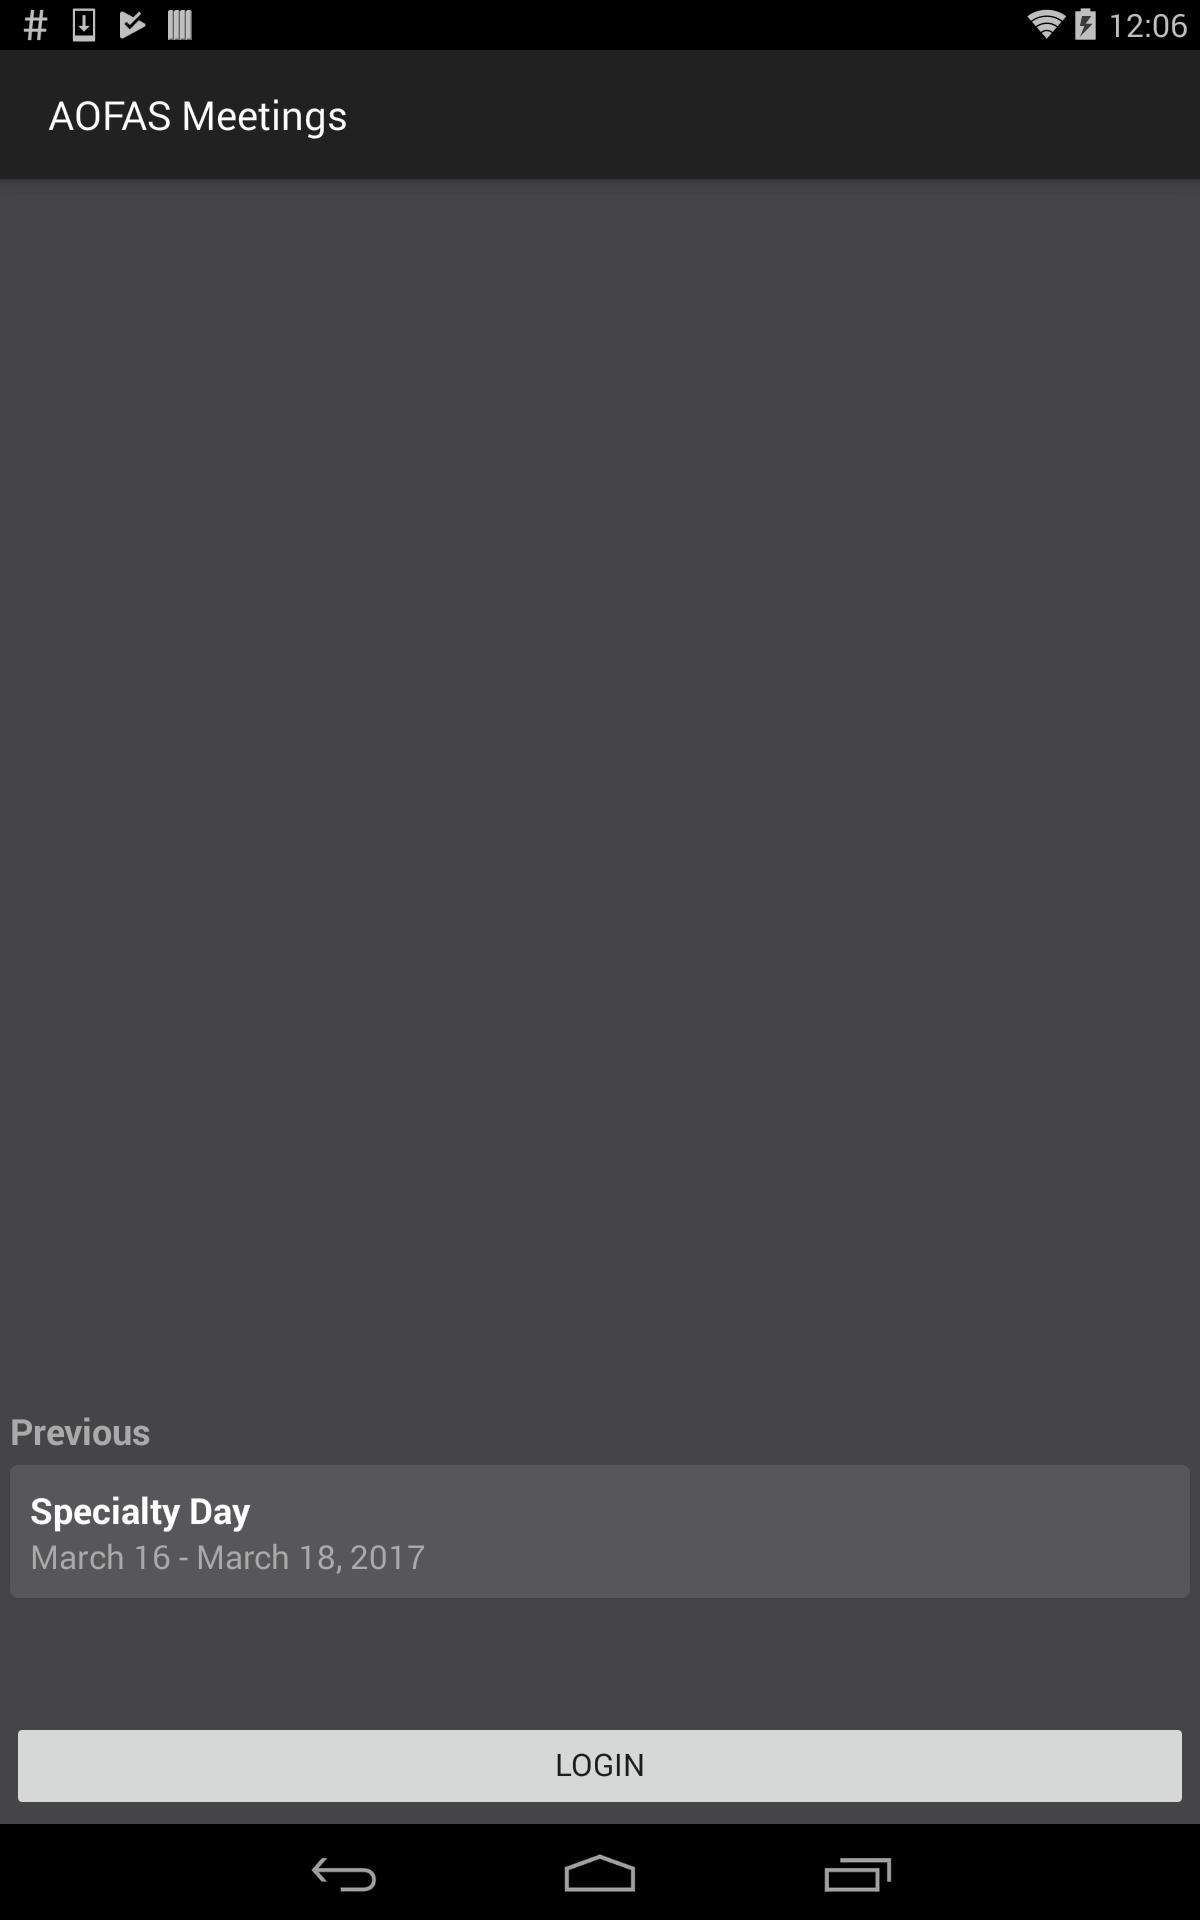android.view.View: (0, 50, 1200, 1825), (0, 50, 1200, 178)
android.widget.Button: (10, 1718, 1190, 1814)
android.widget.FrameLayout: (0, 0, 1200, 1825), (0, 50, 1200, 1825), (0, 178, 1200, 1825), (0, 50, 1200, 178)
android.widget.ImageView: (0, 178, 1200, 1378)
android.widget.LinearLayout: (0, 0, 1200, 1825), (0, 178, 1200, 1825), (0, 1378, 1200, 1608), (10, 1406, 1190, 1598), (10, 1465, 1190, 1598), (0, 1709, 1200, 1825), (19, 1475, 1181, 1588)
android.widget.ScrollView: (0, 1378, 1200, 1709)
android.widget.TextView: (30, 1485, 1170, 1534), (30, 1534, 1170, 1579), (48, 87, 348, 141), (10, 1406, 152, 1456)
